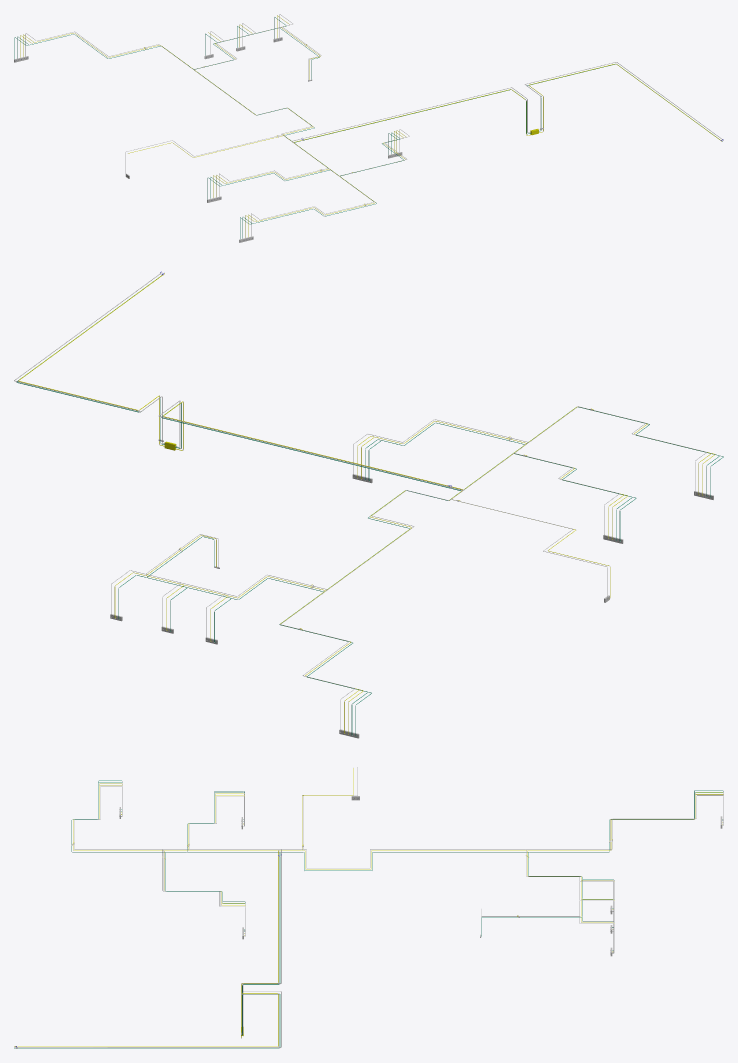
The model's file is khung1.glb.
3 renders of one model, top to bottom at view 1: azimuth 30°, elevation 25°; view 2: azimuth 150°, elevation 25°; view 3: azimuth 270°, elevation 25°, orthographic. The views are drawn at different scales.
Parts seen in each view (by area): view 1: P-PIPE, G-IMPT; view 2: P-PIPE; view 3: P-PIPE.
Part boxes in pixels (x1,y1,x2,y2): P-PIPE: [14, 14, 723, 238]; G-IMPT: [14, 37, 402, 242]; P-PIPE: [14, 271, 723, 736]; P-PIPE: [14, 767, 723, 1048].
Bounding box in the file's own units: 26284 × 2067 × 28110.
